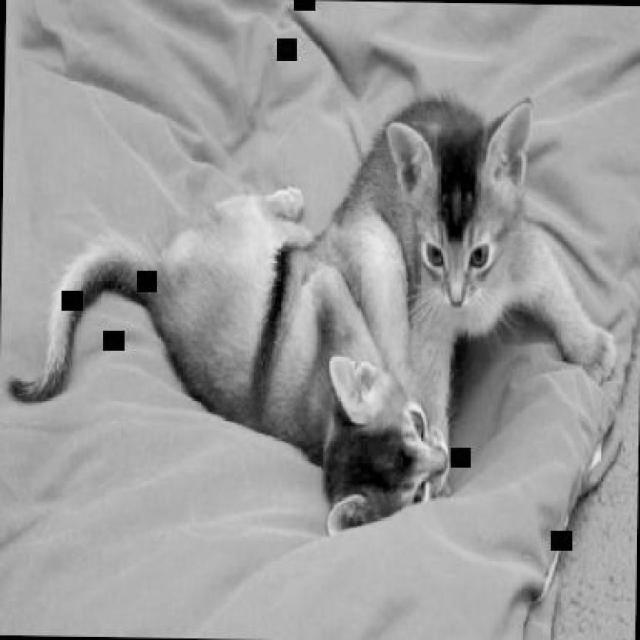Cat: (6, 182, 452, 536), (246, 73, 619, 430)
